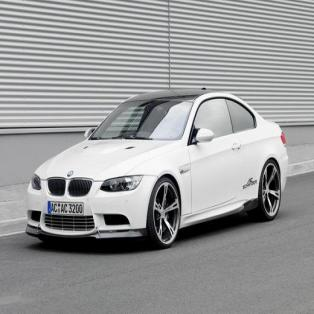Auto: (25, 86, 290, 252)
